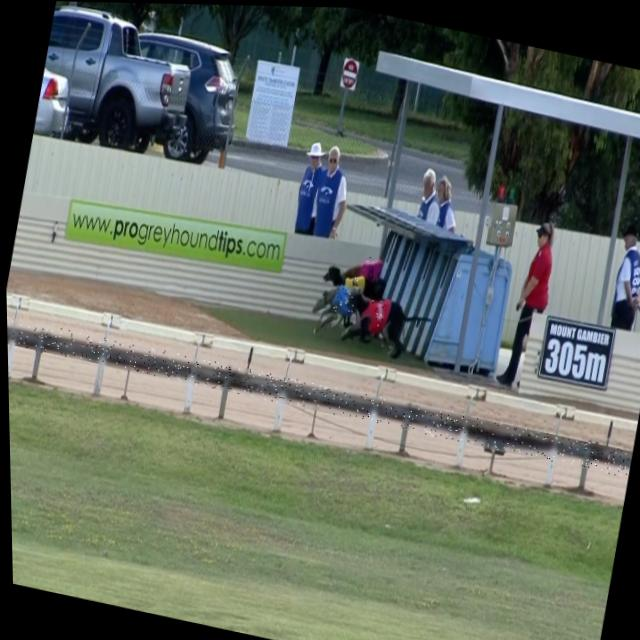dog_eight: (358, 254, 381, 284)
dog_five: (342, 271, 369, 294)
dog_four: (331, 283, 355, 316)
dog_one: (366, 294, 389, 327)
rail: (6, 329, 631, 467)
